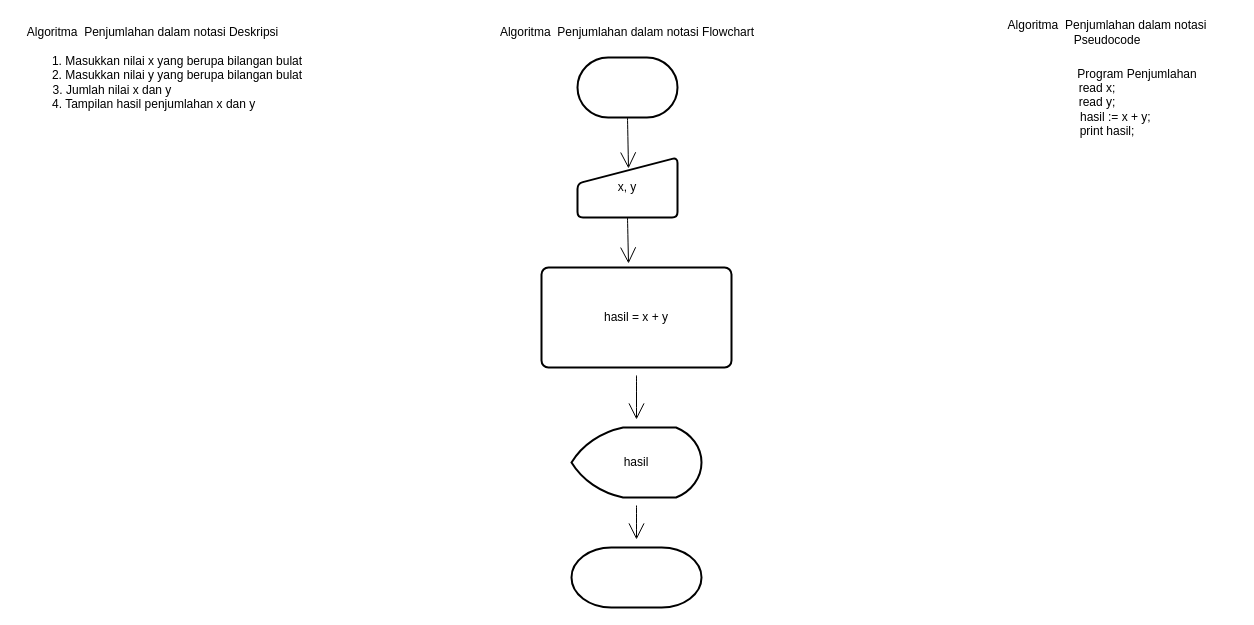
Some shapes in this 1254 by 625 pixel diagram are drawn without their labels. The shapes that lost their labels are listed below. From the top down, each one's centre as x and y in pixels, then its label:
the point at 627,87: mulai
the point at 636,577: selesai
